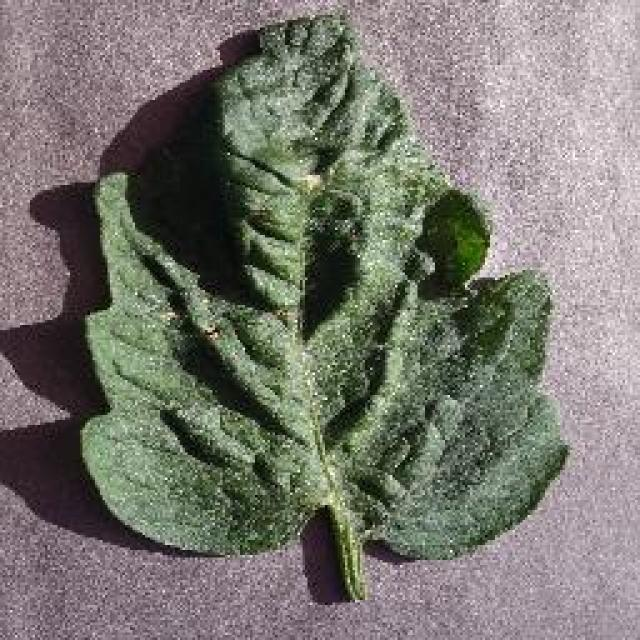Tomato Septoria spot leaf: (68, 15, 572, 570)
